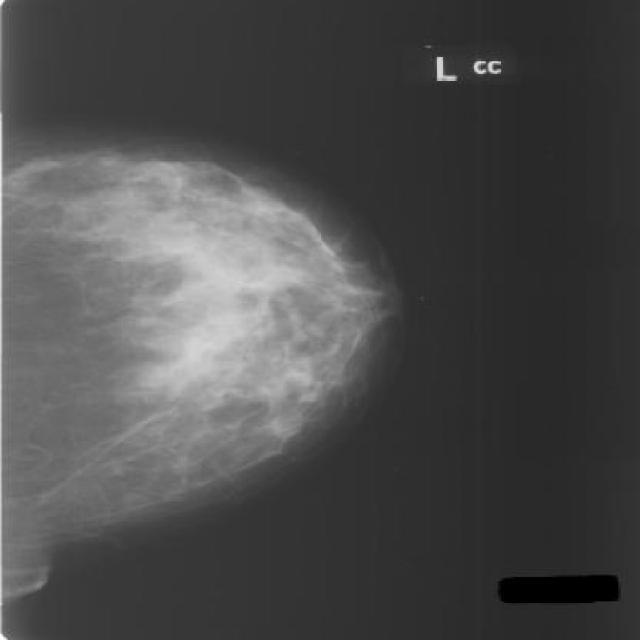tumor: (14, 158, 342, 446)
